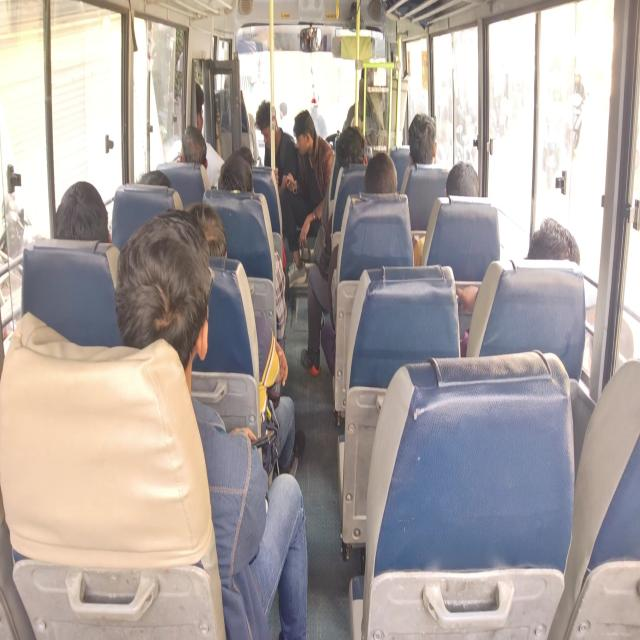person: (114, 210, 308, 638), (187, 202, 304, 476), (300, 150, 414, 377), (456, 216, 580, 356), (526, 217, 634, 364), (217, 150, 288, 352), (281, 109, 335, 285), (54, 180, 121, 289), (174, 80, 224, 188), (255, 99, 299, 195), (55, 180, 112, 243), (526, 217, 580, 264), (188, 202, 227, 258), (408, 112, 437, 165), (363, 151, 398, 194), (218, 152, 254, 192), (445, 161, 479, 197), (181, 125, 207, 166)
